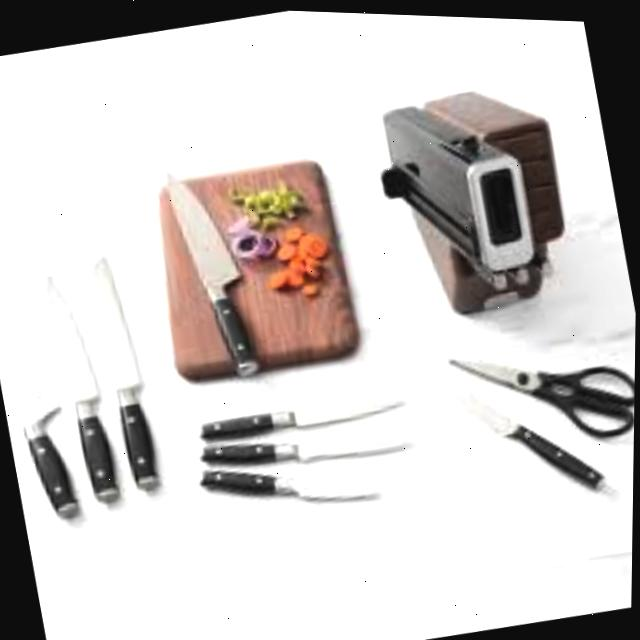Knife: (438, 331, 614, 510), (163, 156, 267, 382), (41, 266, 127, 504), (88, 248, 168, 490), (1, 320, 87, 524), (200, 433, 385, 526), (201, 404, 410, 484), (200, 379, 410, 446)
